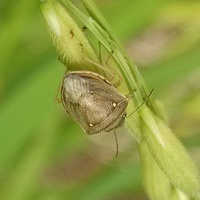insect: (55, 71, 147, 133)
